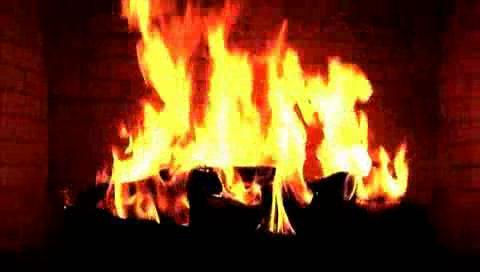fire: (101, 2, 413, 221)
